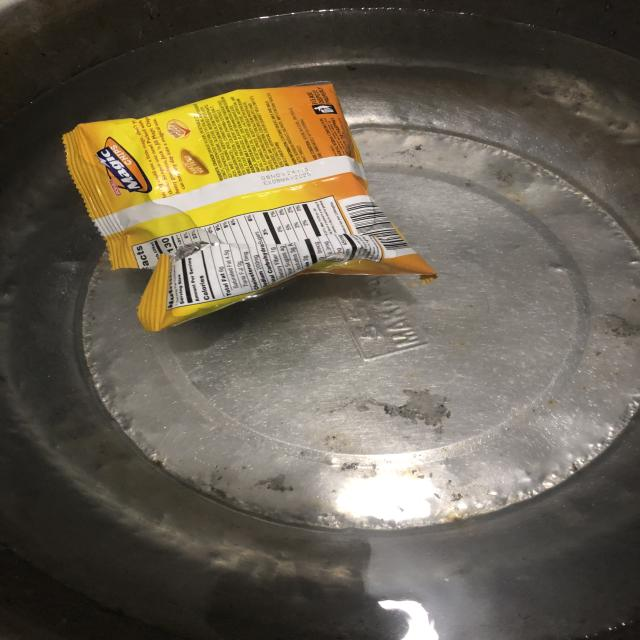Plastic Wrapper: (63, 84, 434, 330)
